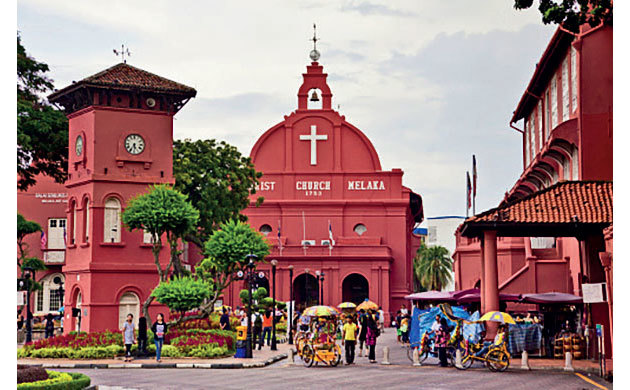Church: (66, 24, 408, 321)
